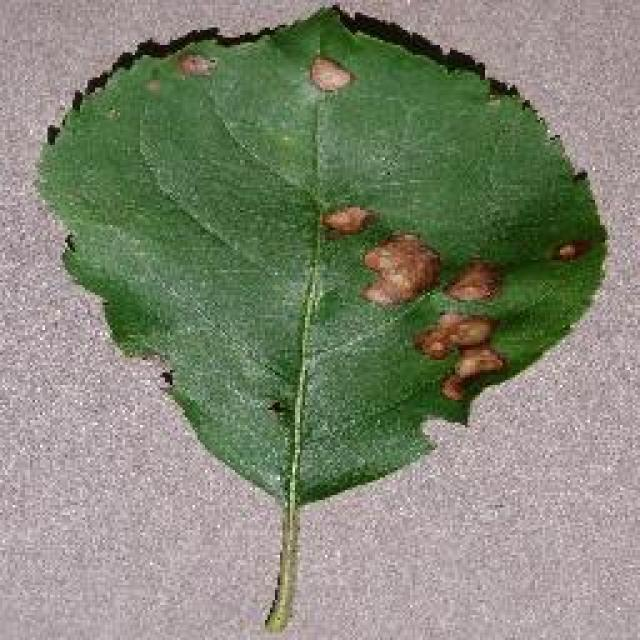Black_rot: (32, 2, 608, 632)
